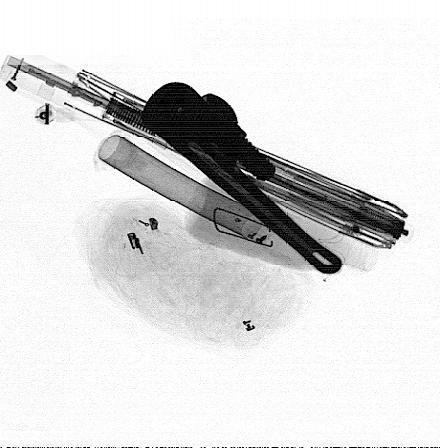Wrench: (136, 80, 342, 274)
